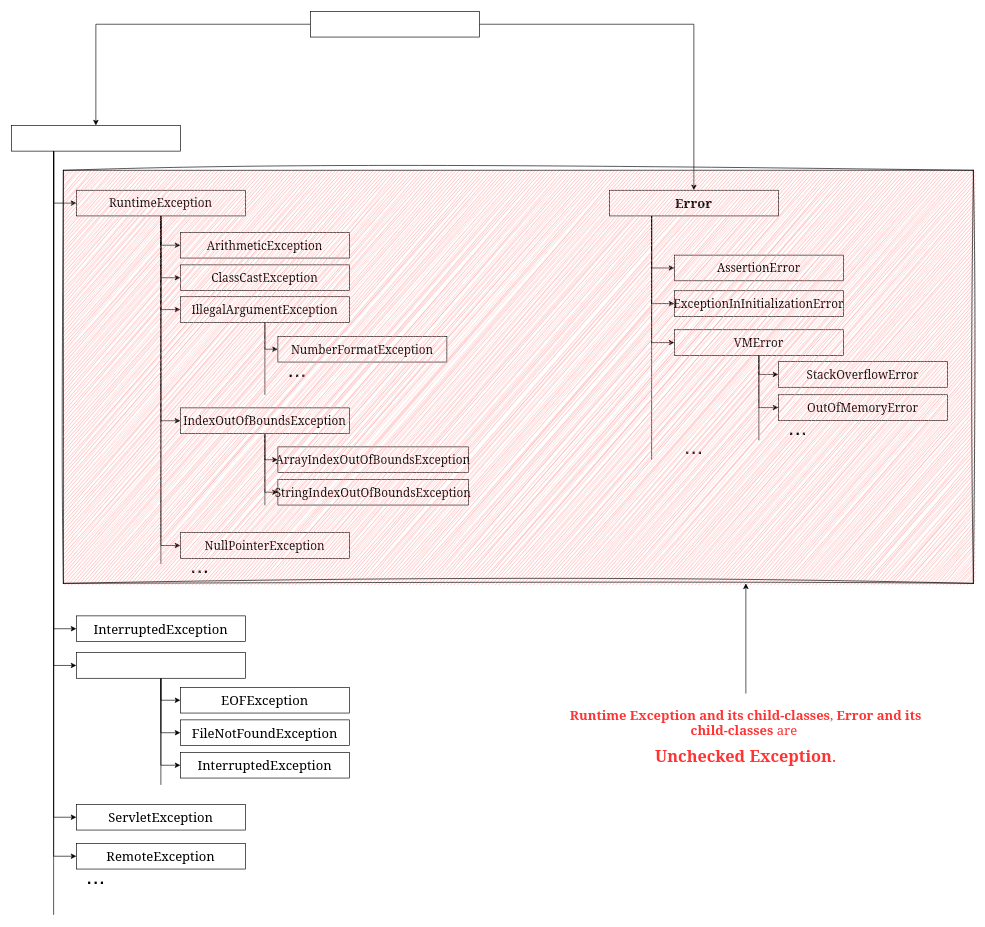
This 985x927 diagram has some shape labels left out. The centre of each missing label's shape, as x and y in pixels:
Exception: the point at 95,138
IOException: the point at 160,665
Throwable: the point at 394,24
